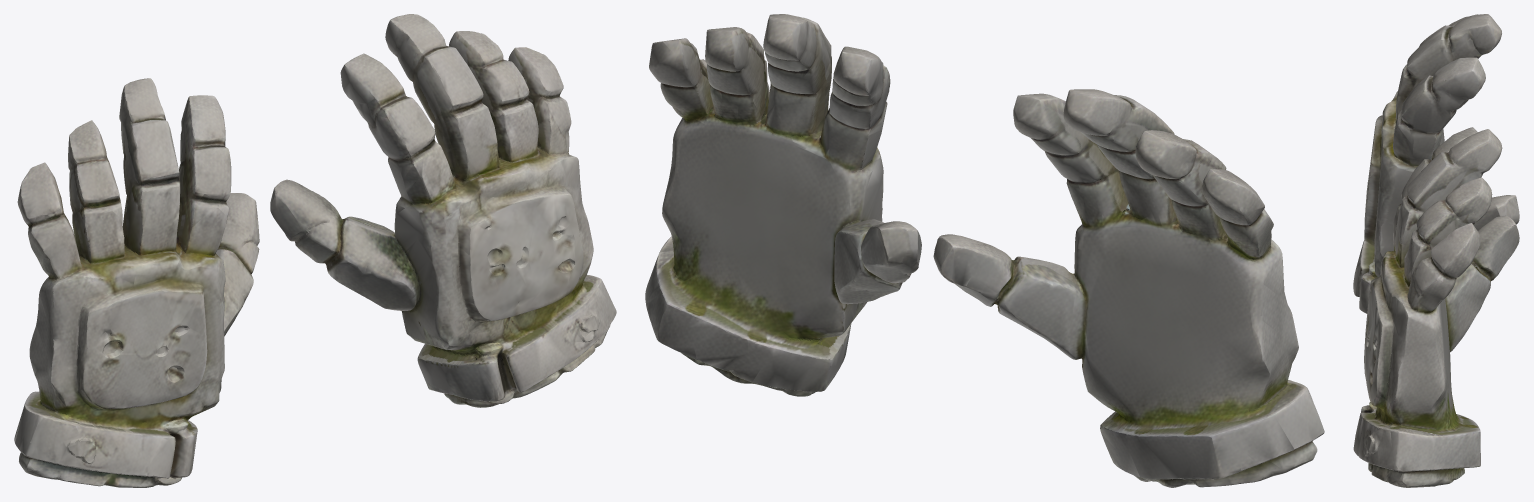
The model's file is hand.glb.
3 renders of one model, left to right at view 1: azimuth 30°, elevation 25°; view 2: azimuth 150°, elevation 25°; view 3: azimuth 270°, elevation 25°, orthographic. The views are drawn at different scales.
Parts seen in each view (by area): view 1: model; view 2: model; view 3: model.
Boxes of the visible parts, bbox=[...] form: model: bbox=[14, 14, 616, 487]; model: bbox=[645, 14, 1324, 487]; model: bbox=[1353, 14, 1519, 487].
Bounding box in the file's own units: 1.9 × 1.11 × 0.5201.
Materials: 1 (1 with a texture image).
